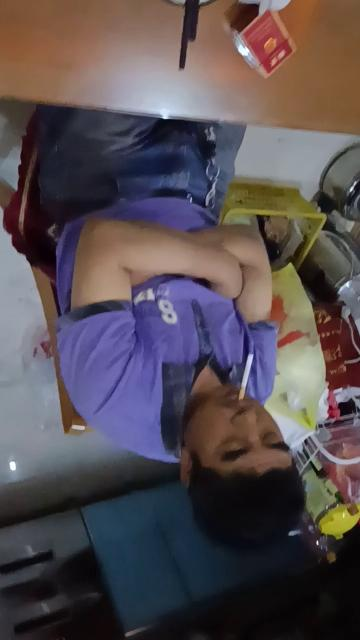Cigarette: (238, 354, 254, 401)
